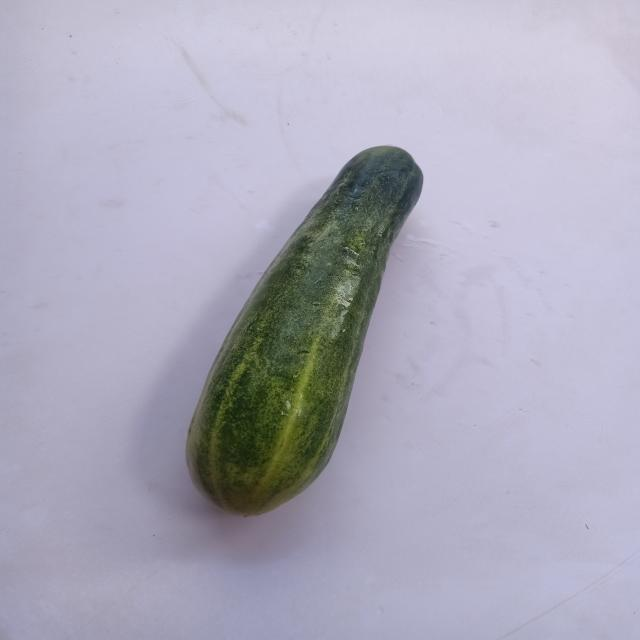Cucumber: (110, 124, 465, 569)
